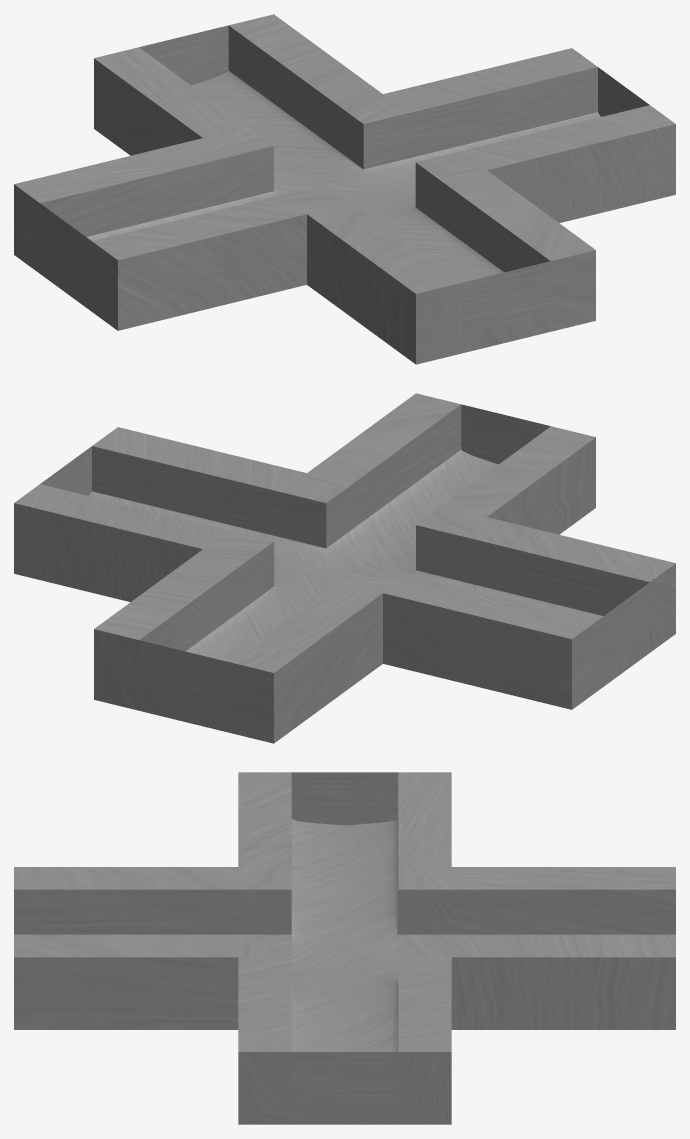
Rendered from simple_stage.glb.
The picture shows the model from 3 angles, top to bottom: view 1: azimuth 30°, elevation 25°; view 2: azimuth 150°, elevation 25°; view 3: azimuth 270°, elevation 25°; orthographic projection. The views are drawn at different scales.
Parts seen in each view (by area): view 1: Cube-col; view 2: Cube-col; view 3: Cube-col.
Part boxes in pixels (bbox=[...]): Cube-col: bbox=[14, 14, 675, 364]; Cube-col: bbox=[14, 393, 675, 743]; Cube-col: bbox=[14, 772, 675, 1124].
Bounding box in the file's own units: 62 × 7.5 × 62.
1 material, 1 textured.
